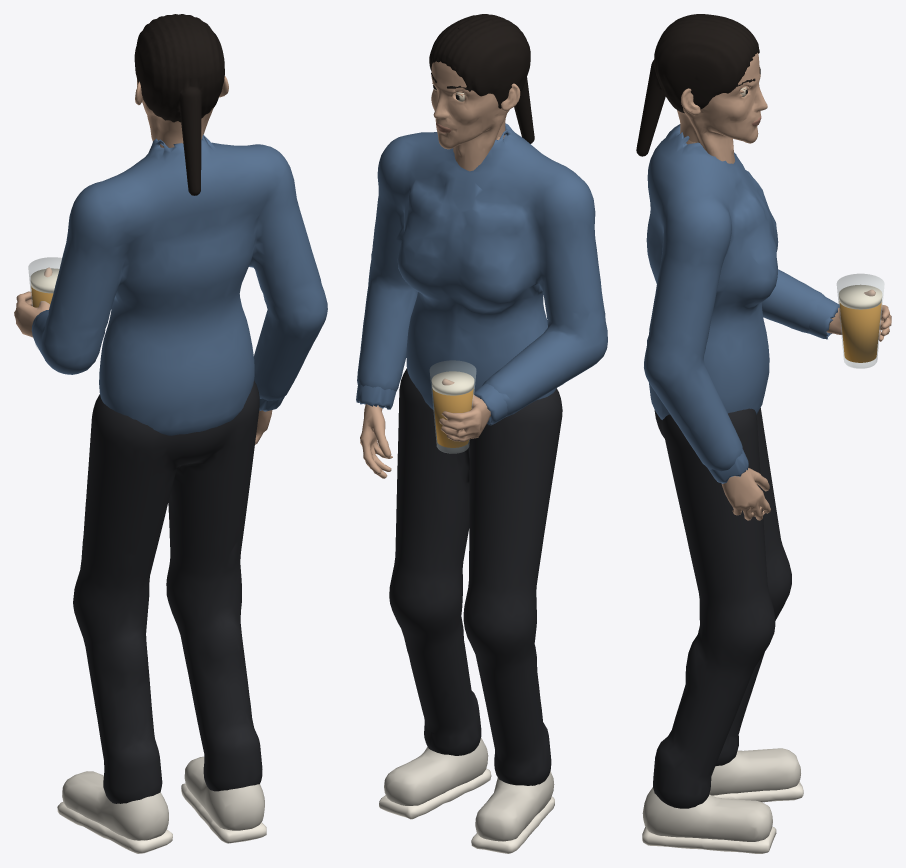
Rendered from patron_d.glb.
3 views of the same model, side by side, from view 1: azimuth 30°, elevation 25°; view 2: azimuth 150°, elevation 25°; view 3: azimuth 270°, elevation 25° (orthographic). The views are drawn at different scales.
Parts seen in each view (by area): view 1: patron_d_body, patron_d_head, patron_d_hands, pint; view 2: patron_d_body, patron_d_head, patron_d_hands, pint, pint_beer, pint_foam; view 3: patron_d_body, patron_d_head, pint, patron_d_hands, pint_beer, pint_foam.
Part boxes in pixels (x1,y1,x2,y2): patron_d_body: [32, 134, 327, 853]; patron_d_head: [134, 14, 228, 195]; patron_d_hands: [14, 267, 284, 444]; pint: [28, 257, 61, 349]; patron_d_body: [357, 123, 607, 853]; patron_d_head: [429, 14, 534, 171]; patron_d_hands: [356, 378, 507, 478]; pint: [430, 360, 476, 453]; pint_beer: [432, 388, 473, 447]; pint_foam: [431, 371, 474, 395]; patron_d_body: [642, 124, 825, 853]; patron_d_head: [636, 14, 767, 163]; pint: [837, 274, 884, 368]; patron_d_hands: [708, 289, 891, 520]; pint_beer: [839, 301, 881, 362]; pint_foam: [839, 284, 882, 309].
Bounding box in the file's own units: 0.5286 × 1.58 × 0.4572.
